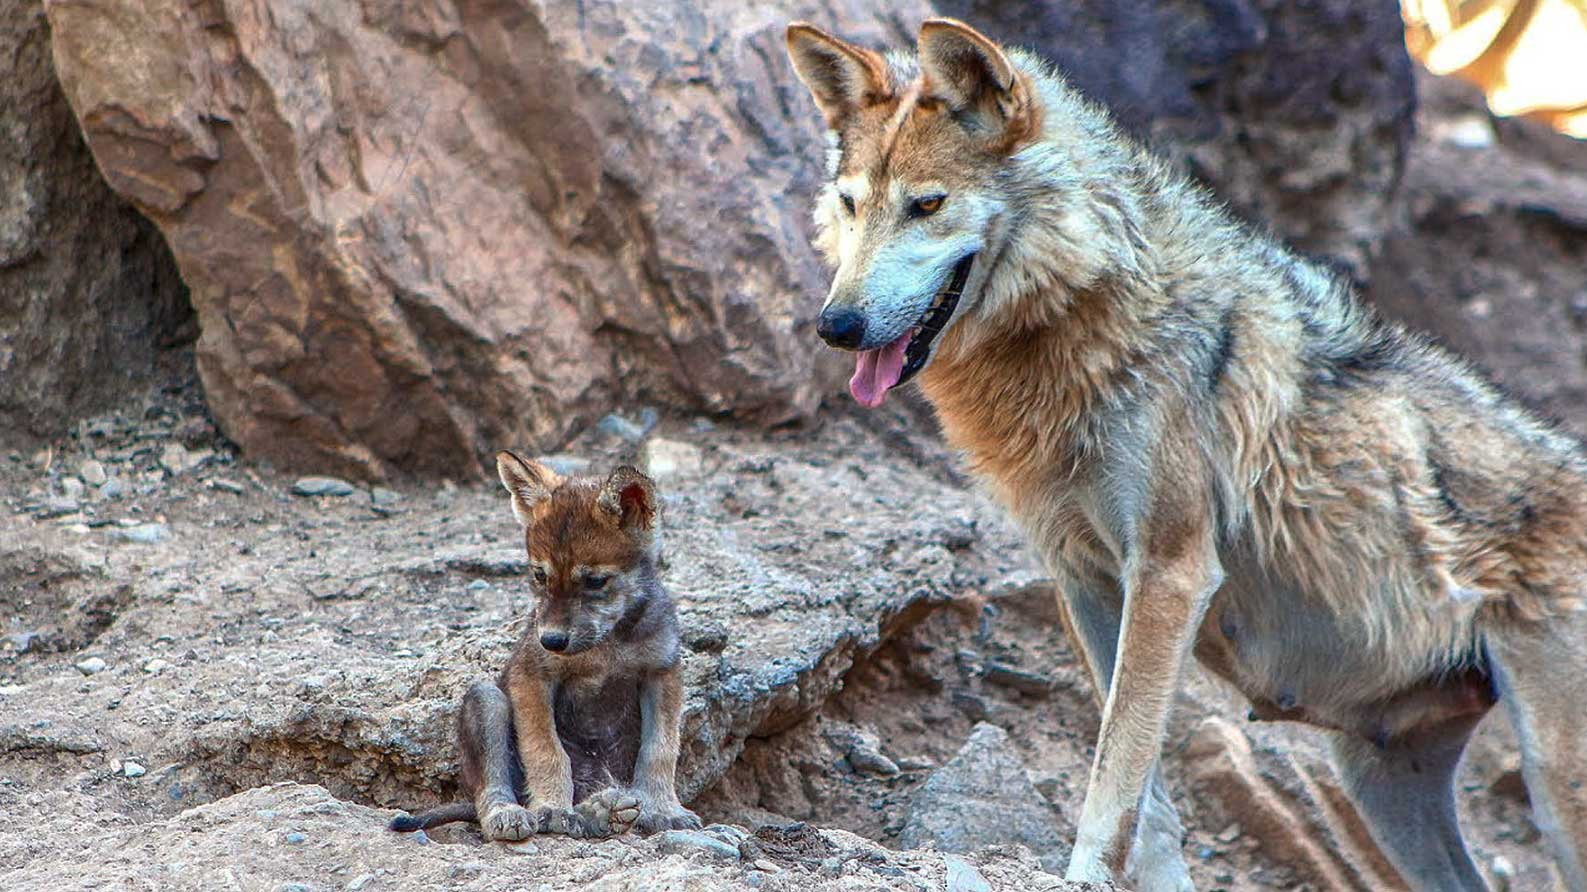Lobo: (770, 28, 1535, 843), (460, 387, 688, 842)
